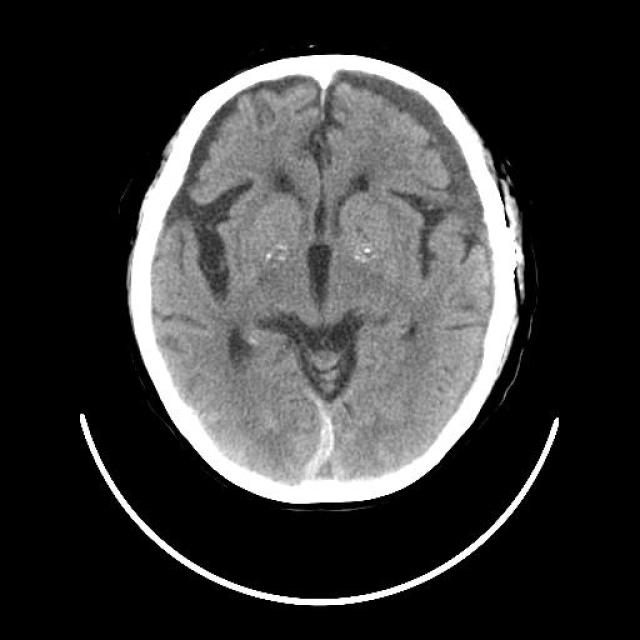Subdural: (268, 389, 362, 505)
